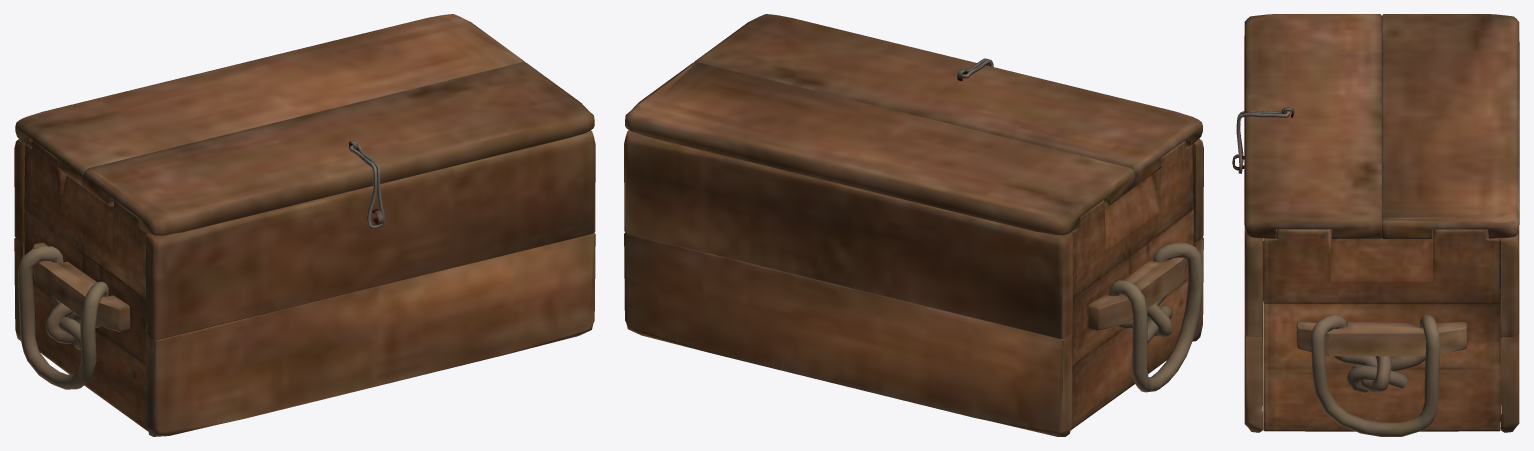
File: wooden_crate_01.glb
3 views of the same model, side by side, from view 1: azimuth 30°, elevation 25°; view 2: azimuth 150°, elevation 25°; view 3: azimuth 270°, elevation 25° (orthographic). The views are drawn at different scales.
Parts seen in each view (by area): view 1: wooden_crate_01, wooden_crate_01_lid, wooden_crate_01_latch; view 2: wooden_crate_01, wooden_crate_01_lid; view 3: wooden_crate_01_lid, wooden_crate_01, wooden_crate_01_latch.
Part boxes in pixels (x1=…): wooden_crate_01: x1=14, y1=130, x2=595, y2=436; wooden_crate_01_lid: x1=15, y1=14, x2=594, y2=236; wooden_crate_01_latch: x1=349, y1=145, x2=384, y2=228; wooden_crate_01: x1=624, y1=130, x2=1203, y2=436; wooden_crate_01_lid: x1=625, y1=14, x2=1202, y2=235; wooden_crate_01_lid: x1=1244, y1=14, x2=1519, y2=238; wooden_crate_01: x1=1232, y1=154, x2=1519, y2=436; wooden_crate_01_latch: x1=1236, y1=110, x2=1290, y2=173.
Bounding box in the file's own units: 0.8245 × 0.3496 × 0.4089.
Materials: 1 (1 with a texture image).
